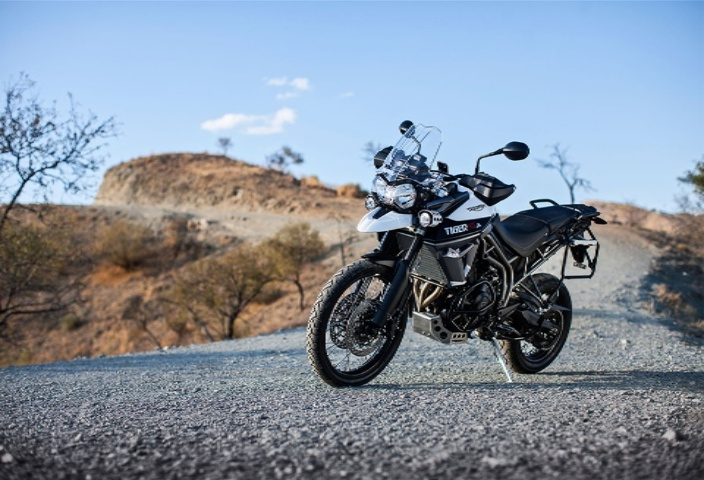motorcycle: (298, 115, 610, 394)
